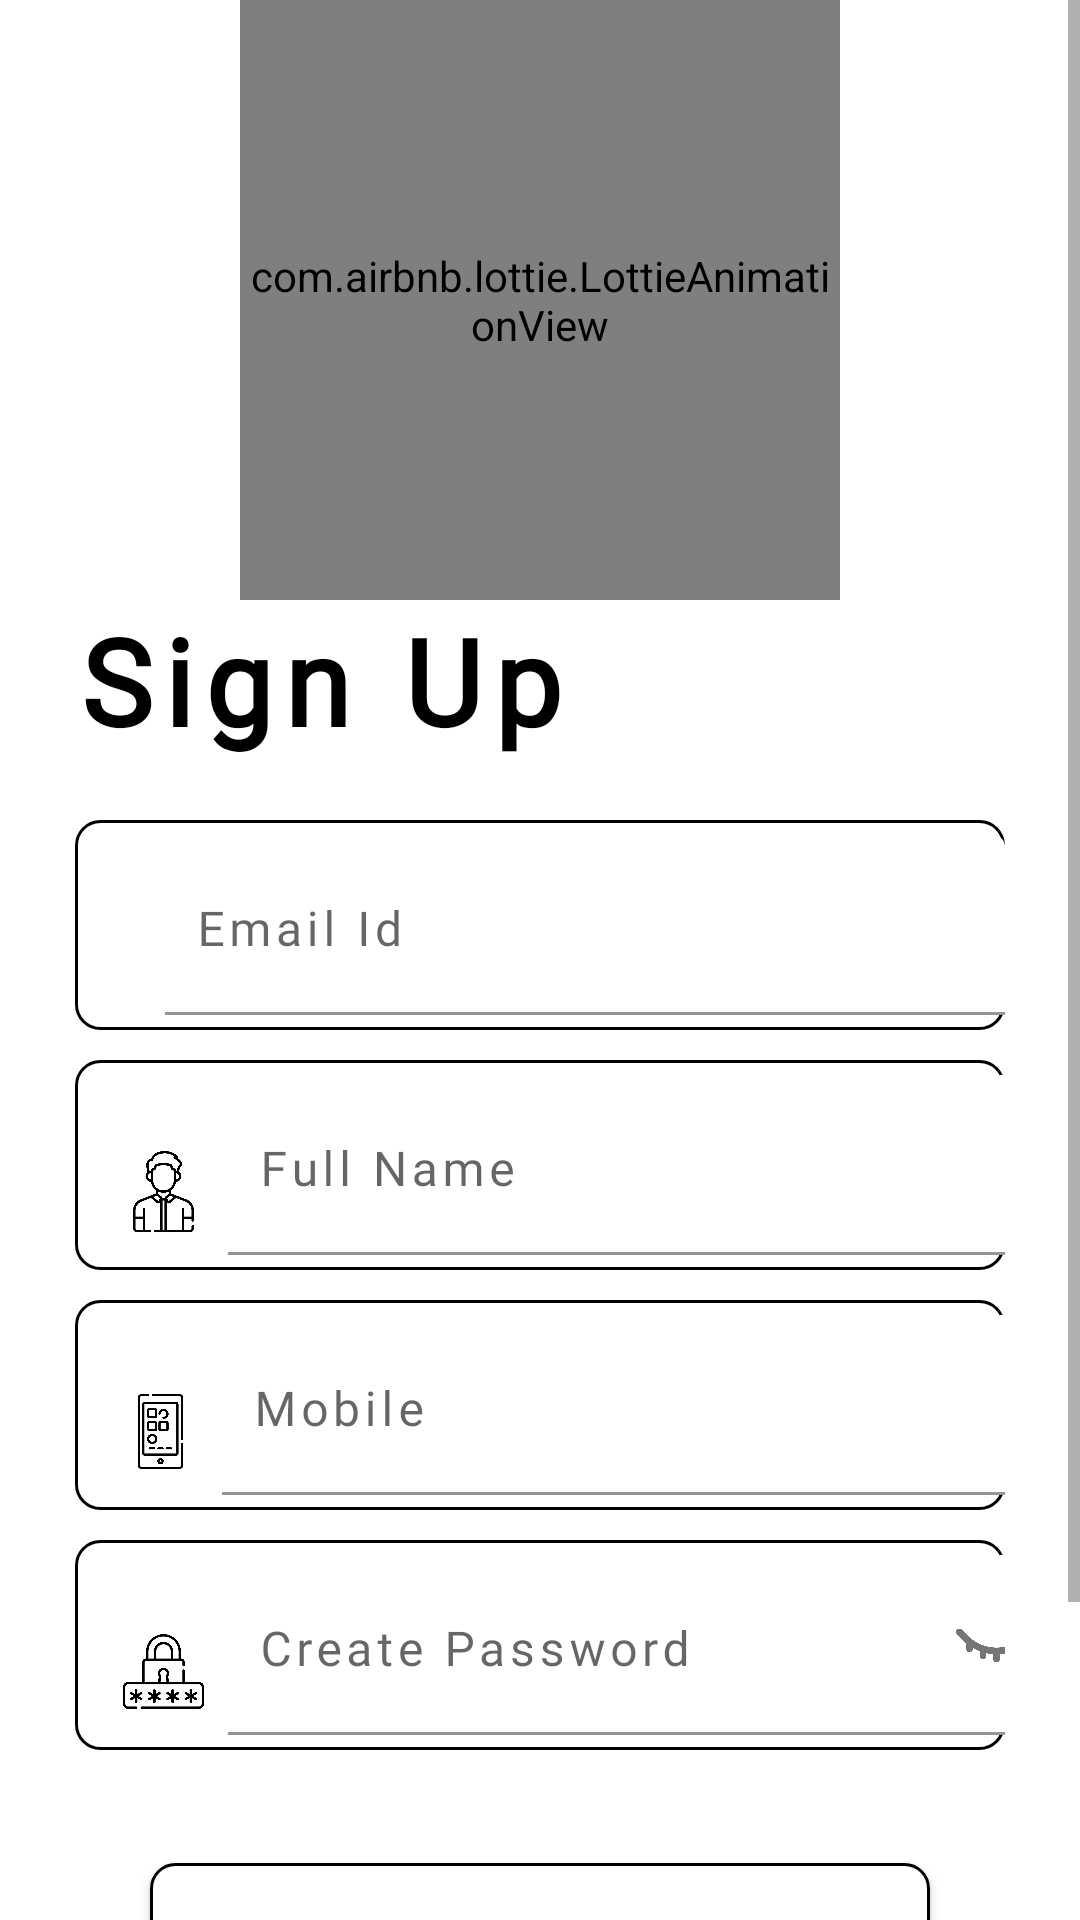

Point at icon controls on the screen. Image size 1080x1920, points as (x,y).
lock: (163,1671)
phone: (160,1431)
